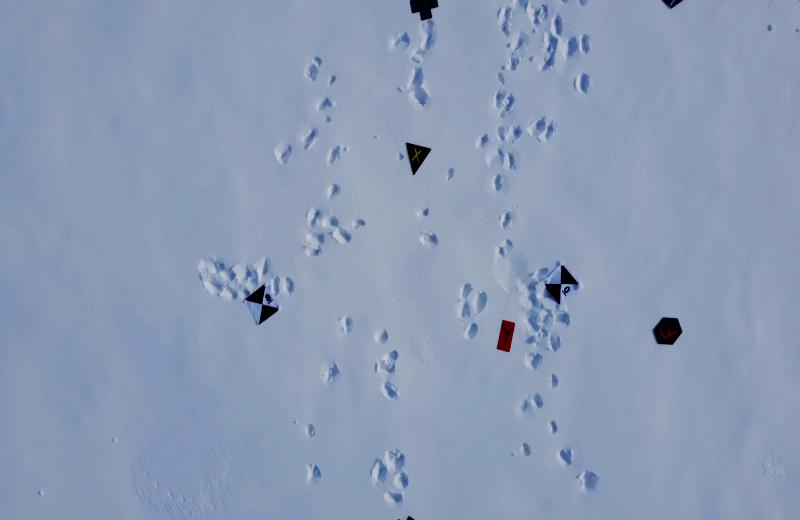Cross: (406, 0, 446, 22)
Hexagon: (648, 310, 685, 351)
Pentagon: (659, 0, 686, 14)
Rectangle: (492, 316, 516, 357)
Triangle: (402, 139, 433, 179)
